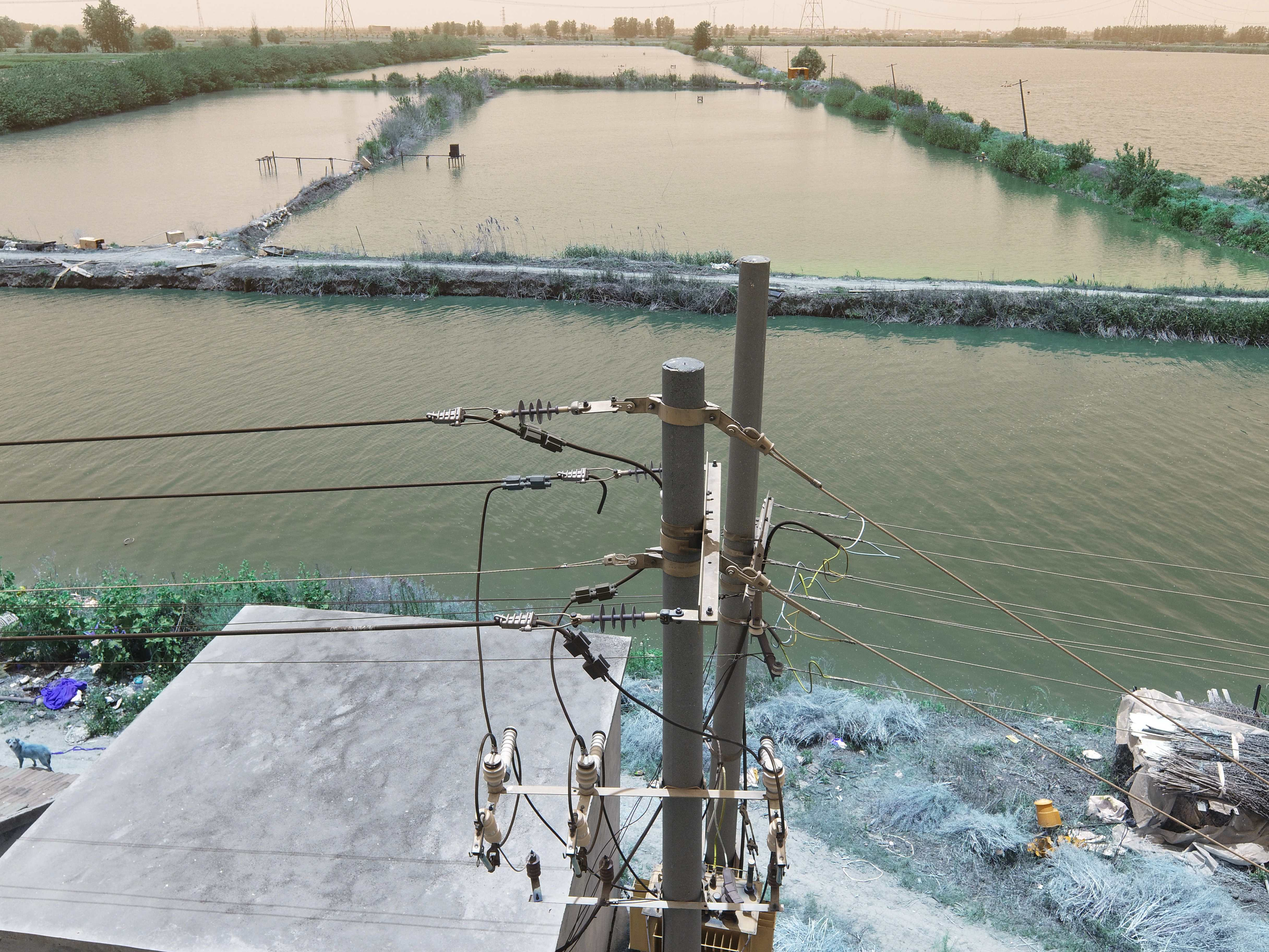severe_soiling_no_discharge_whole: (771, 659, 787, 674)
